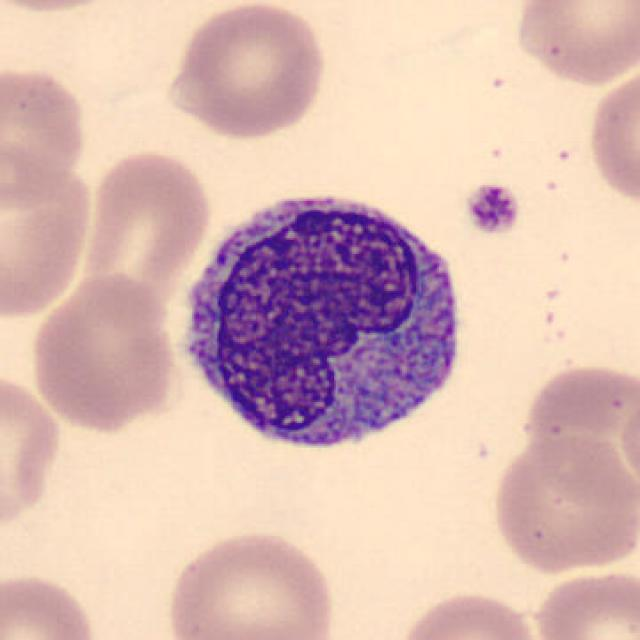Monocyte: (163, 175, 474, 474)
Platelets: (462, 180, 523, 238)
RBC: (25, 270, 181, 435), (162, 0, 330, 143), (78, 145, 215, 319), (487, 428, 637, 578), (159, 523, 341, 640), (521, 362, 640, 517), (0, 144, 98, 322), (0, 60, 91, 212), (510, 0, 638, 90), (0, 366, 64, 540), (583, 64, 640, 212), (528, 566, 638, 640), (393, 587, 544, 640), (0, 567, 105, 640), (0, 0, 130, 14)
